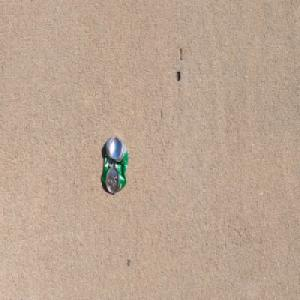SodaCan: (101, 134, 129, 195)
